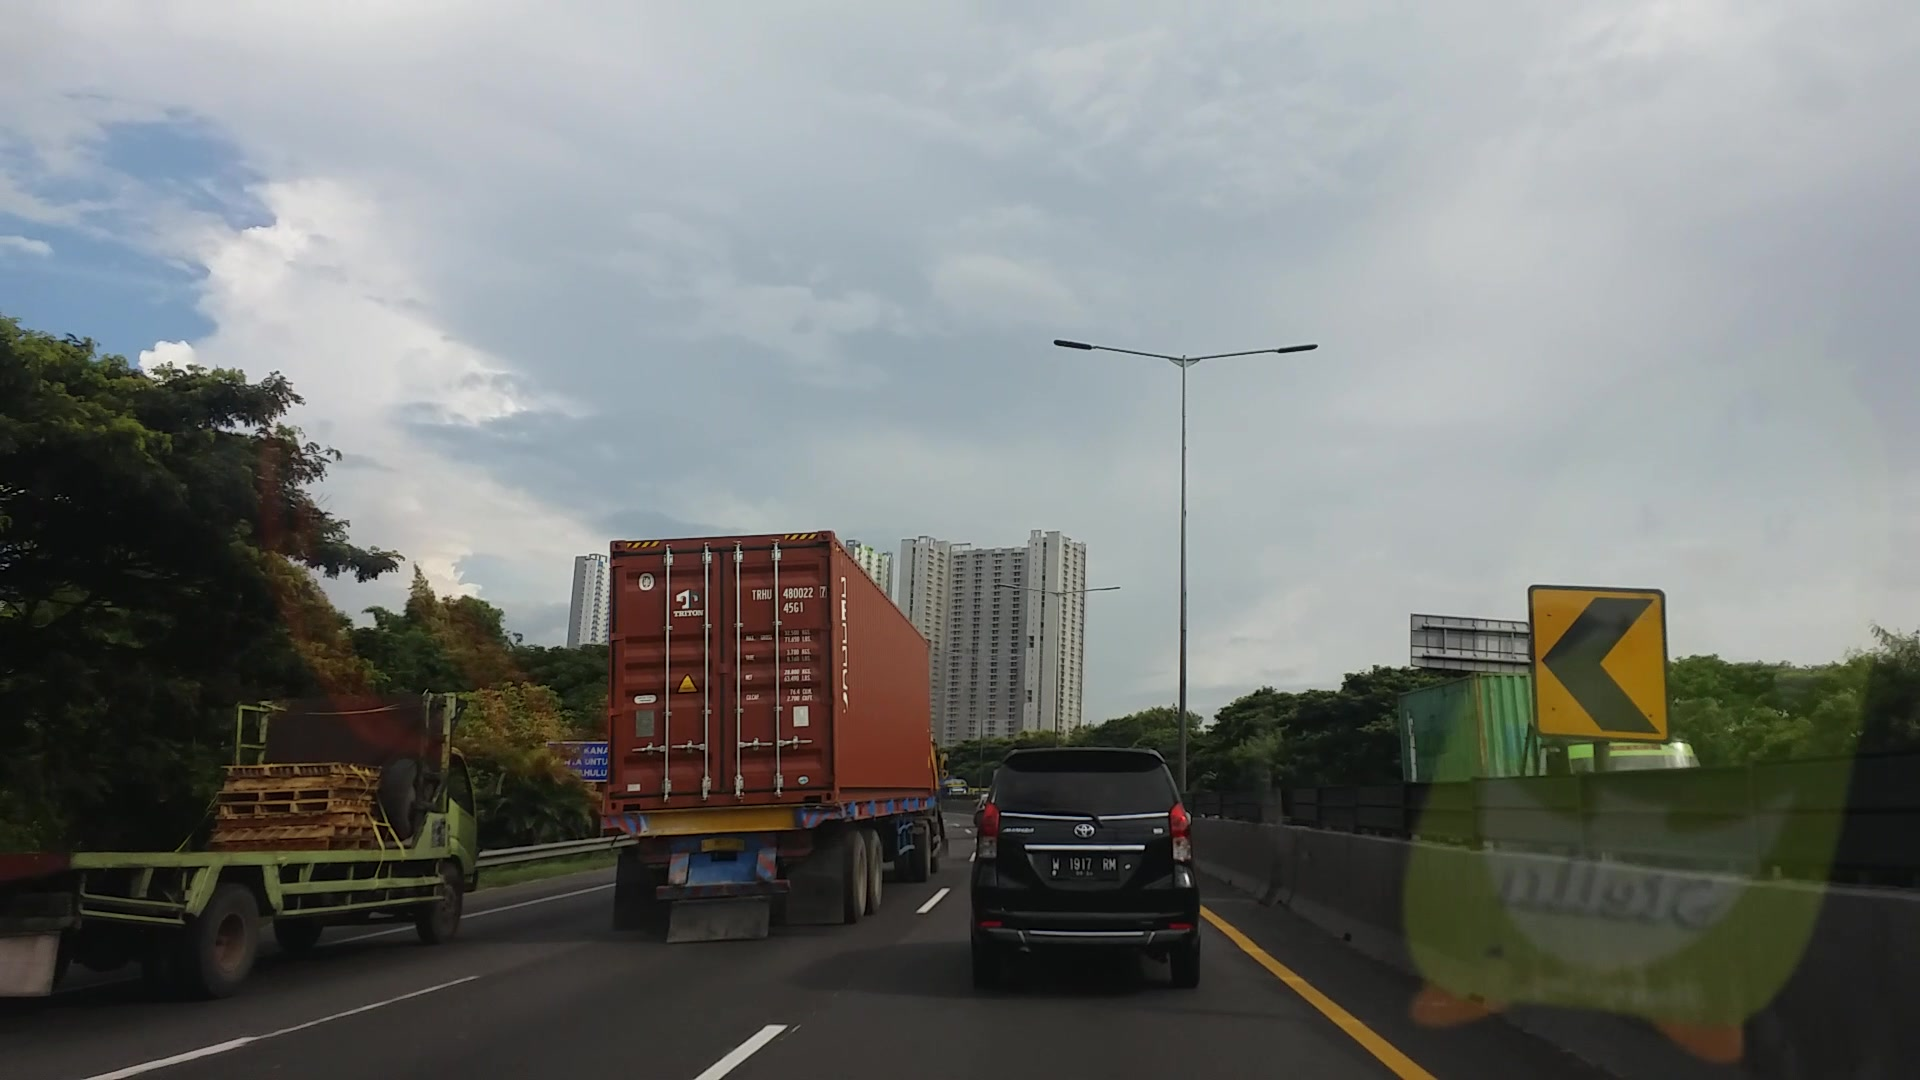plate_positive: (1048, 851, 1120, 881)
